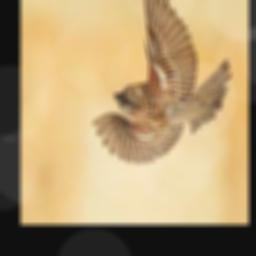Sparrow: (92, 0, 232, 165)
